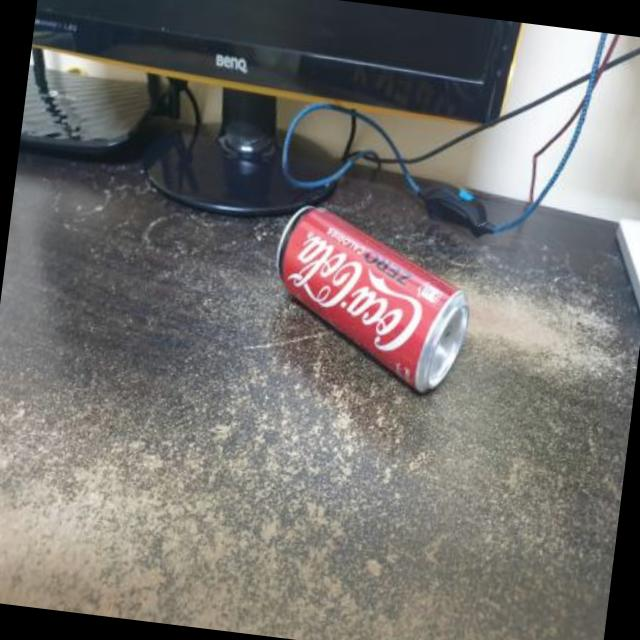metal: (277, 205, 466, 389)
